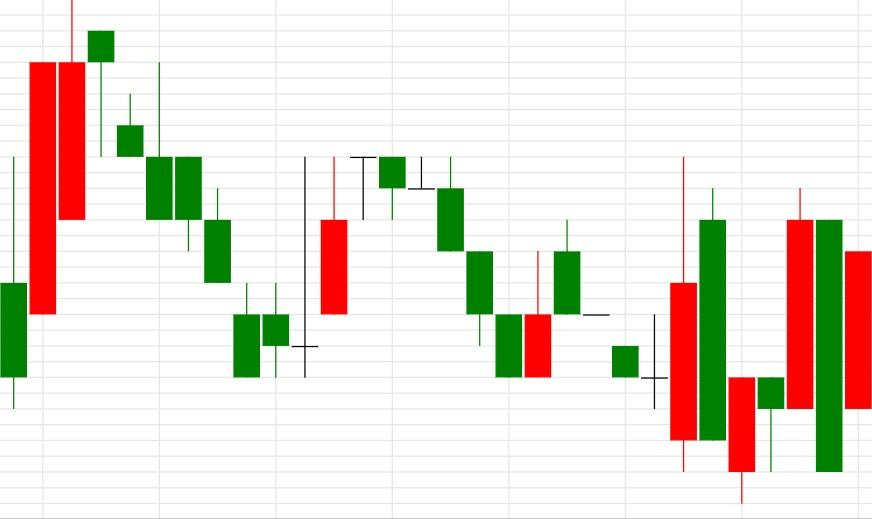bullish_engulfing_rise: (378, 156, 552, 378)
hanging_man_fall: (0, 0, 115, 409)
three_black_crows_fall: (234, 156, 523, 378)
